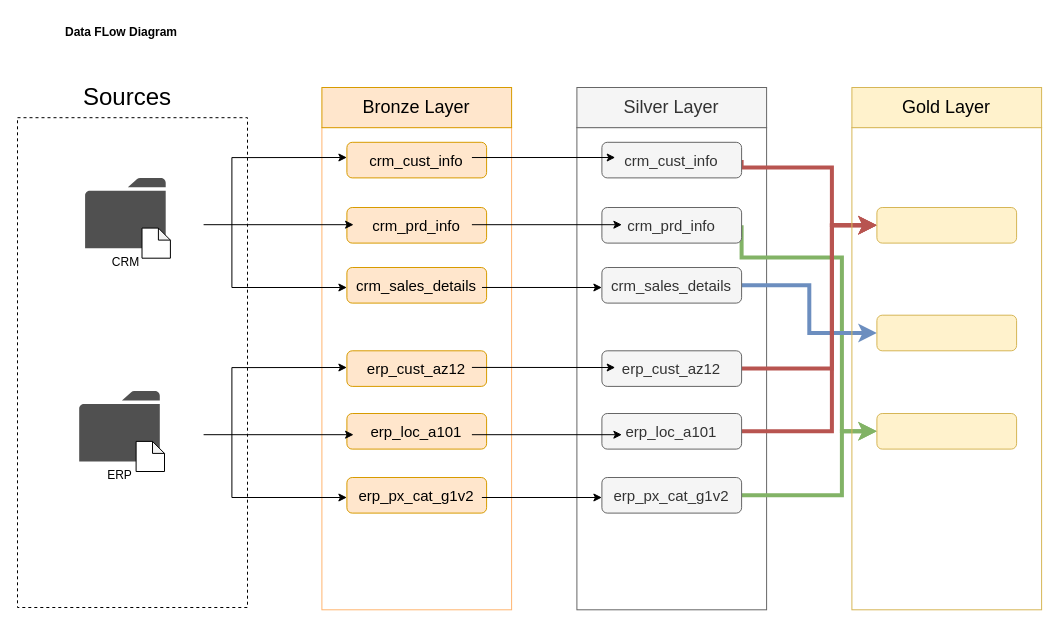
This 1060x627 diagram has some shape labels left out. The shapes that lost their labels are listed below. From the top down, each one's centre as x and y in pixels, then its label:
At point (946, 224): "dim_clients".
At point (946, 332): "fact_sales".
At point (946, 430): "dim_products".
